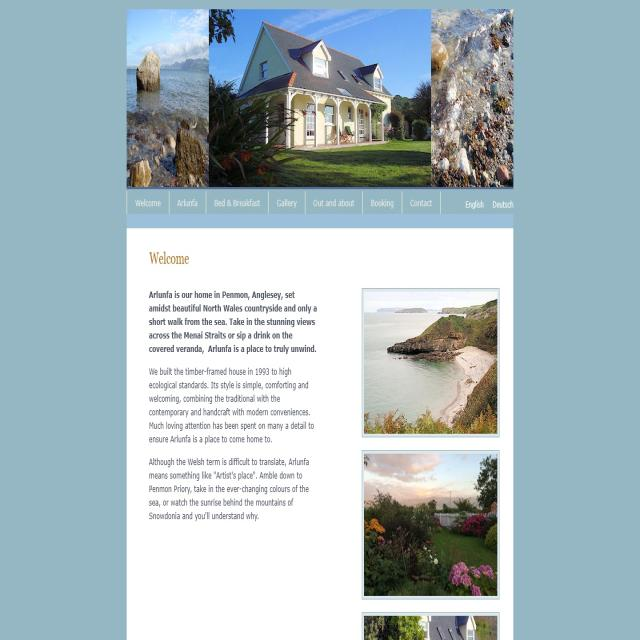button: (207, 190, 267, 217), (307, 191, 362, 215), (128, 191, 168, 216), (170, 190, 204, 214), (270, 191, 304, 214), (404, 192, 439, 214), (364, 193, 400, 214), (491, 196, 513, 210), (464, 198, 486, 211)
heading: (148, 246, 191, 268)
image: (126, 7, 514, 190), (362, 449, 500, 599), (362, 289, 500, 436), (362, 613, 498, 640)
text: (146, 364, 322, 450), (147, 454, 322, 530), (147, 287, 321, 357)
